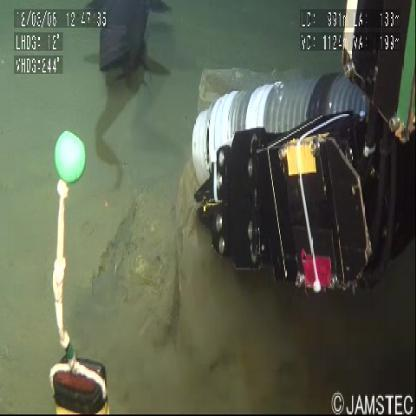Rác: (91, 168, 231, 353)
